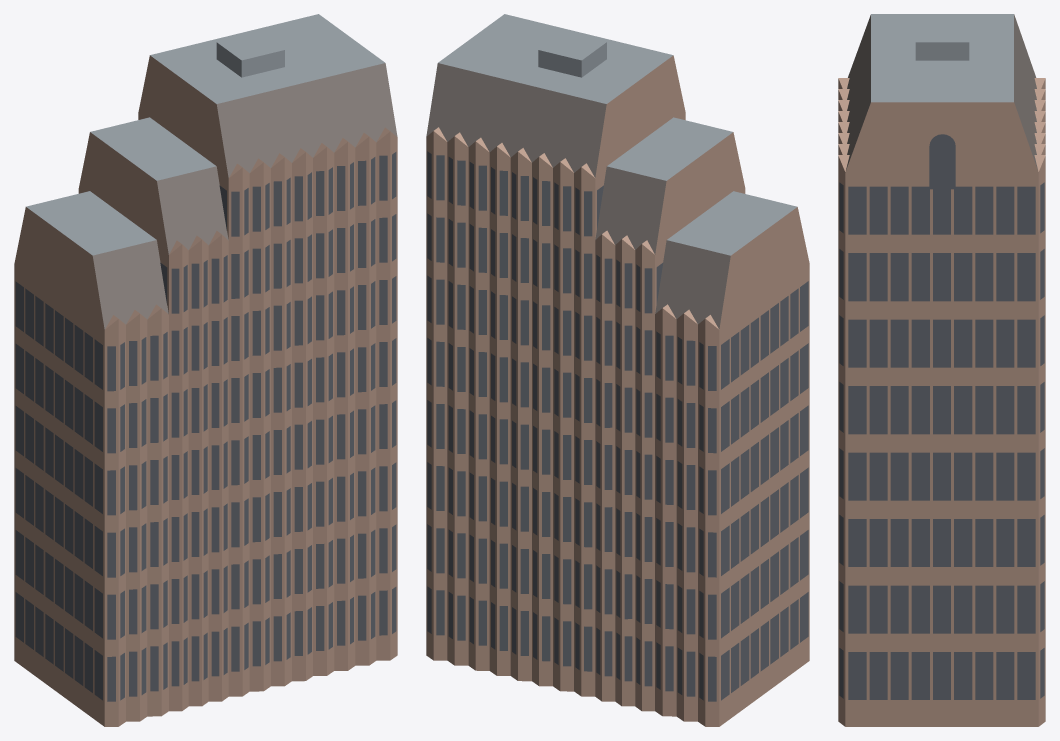
File: sat-bank-of-america-plaza.glb
3 renders of one model, left to right at view 1: azimuth 30°, elevation 25°; view 2: azimuth 150°, elevation 25°; view 3: azimuth 270°, elevation 25°, orthographic. The views are drawn at different scales.
Parts seen in each view (by area): view 1: Bank of America Plaza; view 2: Bank of America Plaza; view 3: Bank of America Plaza.
Boxes of the visible parts, x1,y1,x2,y2 form: Bank of America Plaza: (14, 14, 397, 726); Bank of America Plaza: (426, 14, 809, 726); Bank of America Plaza: (838, 14, 1045, 726).
Bounding box in the file's own units: 60.8 × 119 × 34.8.
